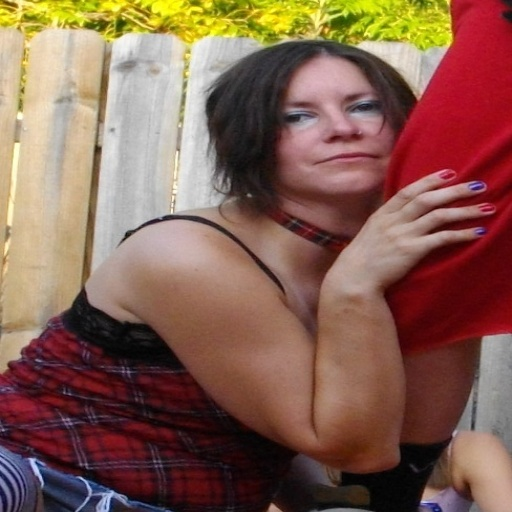hand: (340, 161, 488, 287), (276, 482, 371, 511)
